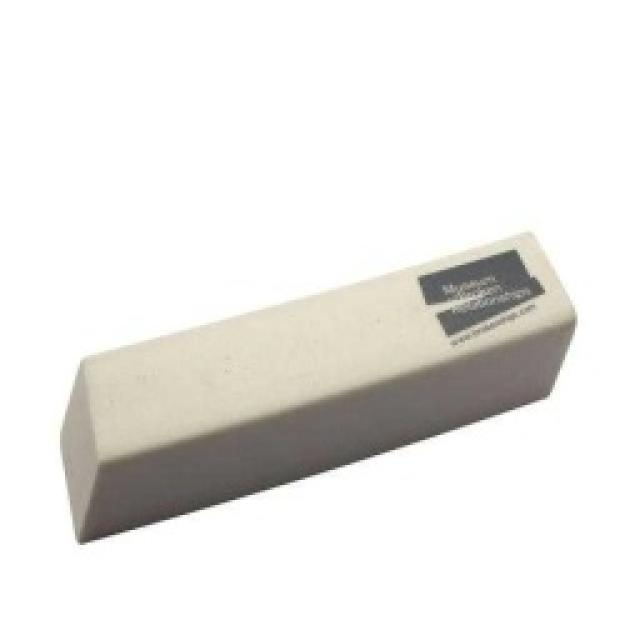Silgi: (58, 228, 578, 545)
